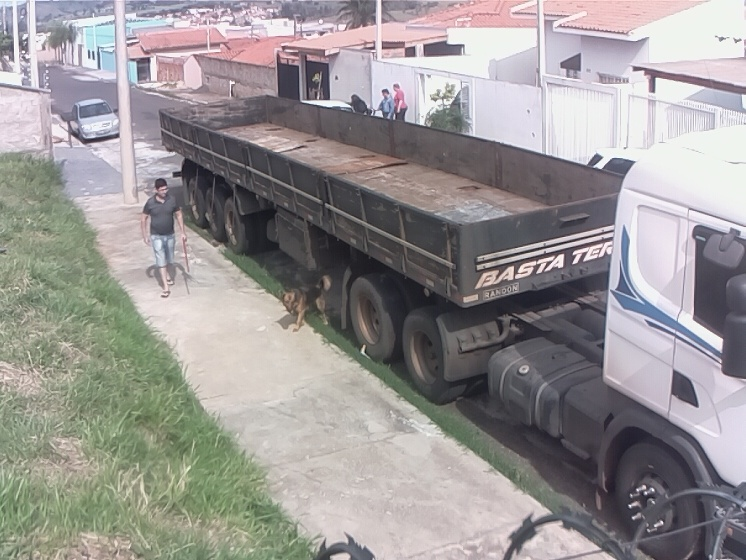person: (139, 177, 185, 299), (391, 84, 409, 123), (377, 88, 396, 120), (348, 92, 370, 116)
